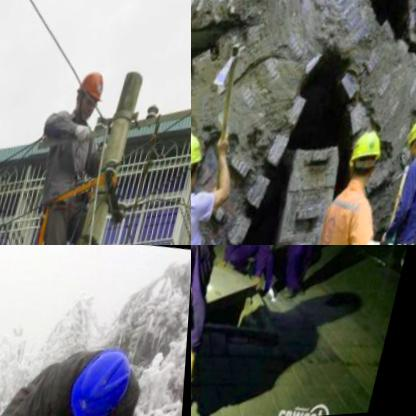helmet: (66, 348, 140, 416), (69, 66, 113, 129), (347, 129, 391, 192), (191, 126, 214, 195), (405, 119, 416, 164)
